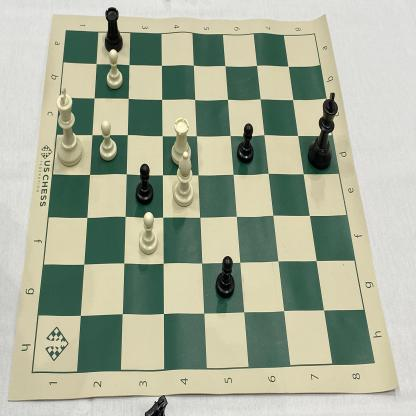black-king: (306, 89, 340, 170)
black-pawn: (215, 252, 237, 301), (134, 161, 156, 206), (236, 120, 255, 165)
black-rook: (101, 4, 124, 54)
white-bishop: (171, 150, 197, 209)
white-king: (53, 84, 86, 170)
white-pawn: (136, 210, 160, 256), (97, 117, 119, 164), (103, 47, 124, 93)
white-rook: (172, 115, 193, 167)
